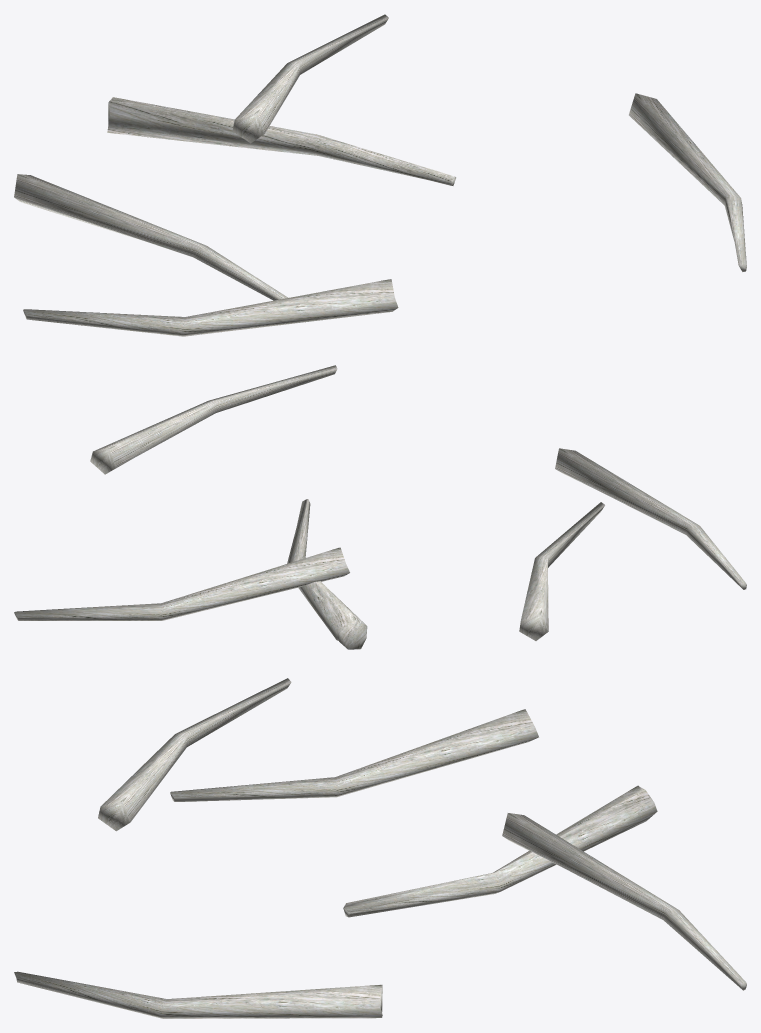
Rendered from shor_driftwood_sml_l0.fbx.
3 views of the same model, one above another, from view 1: azimuth 30°, elevation 25°; view 2: azimuth 150°, elevation 25°; view 3: azimuth 270°, elevation 25° (orthographic). The views are drawn at different scales.
Parts seen in each view (by area): view 1: mesh_node; view 2: mesh_node; view 3: mesh_node.
Boxes of the visible parts, x1,y1,x2,y2 form: mesh_node: (14, 14, 746, 336); mesh_node: (14, 365, 746, 649); mesh_node: (14, 678, 746, 1018).
Bounding box in the file's own units: 3.2 × 0.2482 × 2.92.
